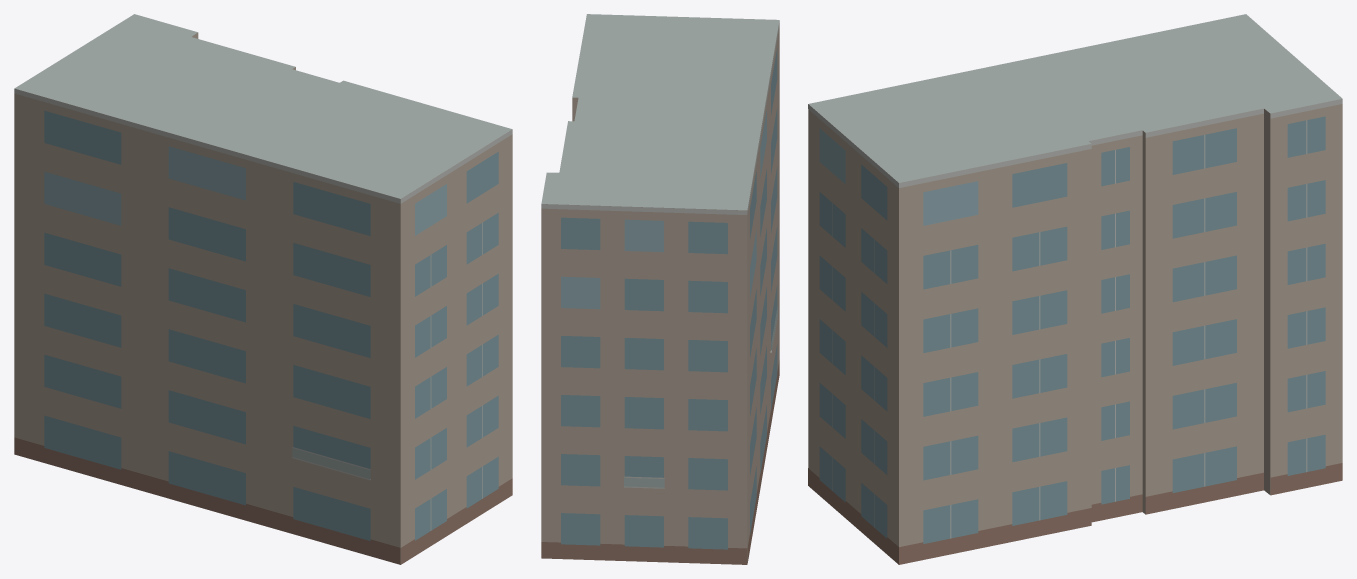
File: survey-upis-32742244.glb
3 views of the same model, side by side, from view 1: azimuth 30°, elevation 25°; view 2: azimuth 150°, elevation 25°; view 3: azimuth 270°, elevation 25° (orthographic). The views are drawn at different scales.
Visible parts, largest first — view 1: survey-upis-32742244.tmp; view 2: survey-upis-32742244.tmp; view 3: survey-upis-32742244.tmp.
Part boxes in pixels (x1,y1,x2,y2): survey-upis-32742244.tmp: (14,14,512,564); survey-upis-32742244.tmp: (541,14,779,564); survey-upis-32742244.tmp: (808,14,1342,564).
Size of the model in its own units: 17.48 by 18.4 by 23.36.
